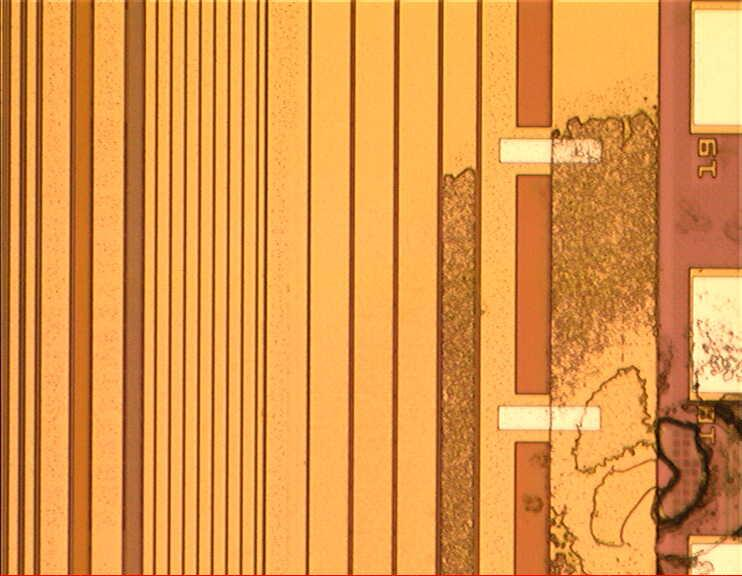PO CONTAMINATION: (441, 74, 742, 576)
